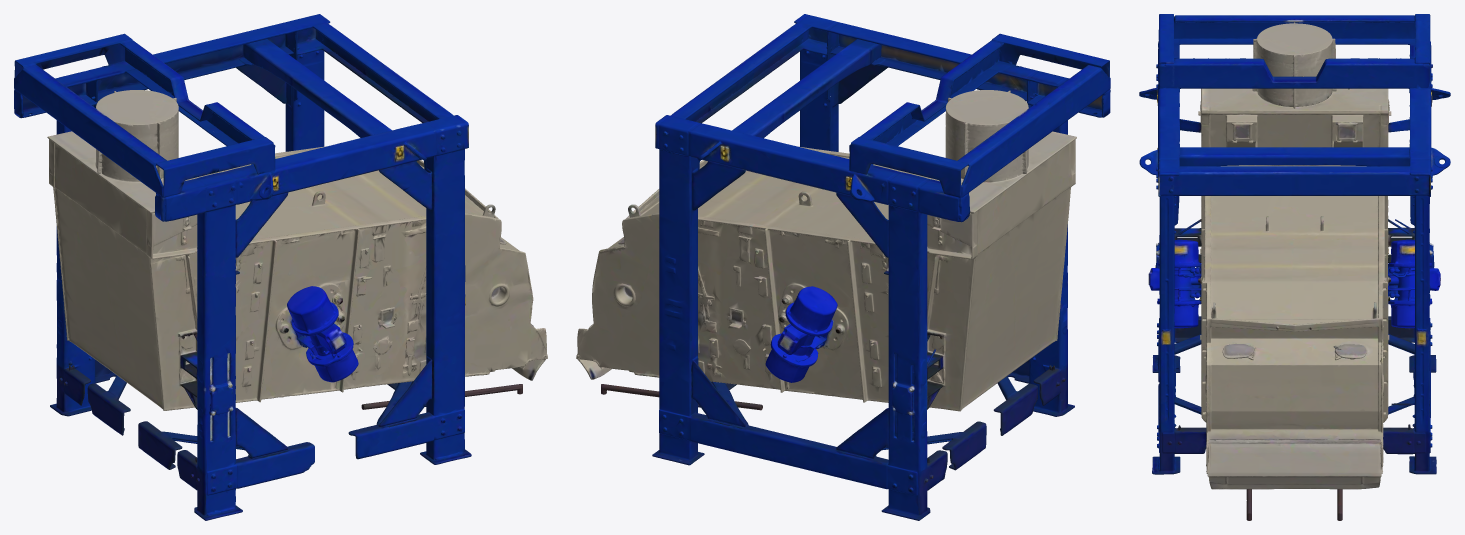
File: jcm_10222.glb
3 views of the same model, side by side, from view 1: azimuth 30°, elevation 25°; view 2: azimuth 150°, elevation 25°; view 3: azimuth 270°, elevation 25° (orthographic). The views are drawn at different scales.
Visible parts, largest first — view 1: tripo_node_9f3b7afc-bca5-41b0-89c1-3e351205577a; view 2: tripo_node_9f3b7afc-bca5-41b0-89c1-3e351205577a; view 3: tripo_node_9f3b7afc-bca5-41b0-89c1-3e351205577a.
Part boxes in pixels (bbox=[...]): tripo_node_9f3b7afc-bca5-41b0-89c1-3e351205577a: bbox=[14, 14, 547, 520]; tripo_node_9f3b7afc-bca5-41b0-89c1-3e351205577a: bbox=[576, 14, 1110, 520]; tripo_node_9f3b7afc-bca5-41b0-89c1-3e351205577a: bbox=[1139, 14, 1450, 520].
Bounding box in the file's own units: 0.982 × 0.8175 × 0.7075.
Materials: 1 (1 with a texture image).
